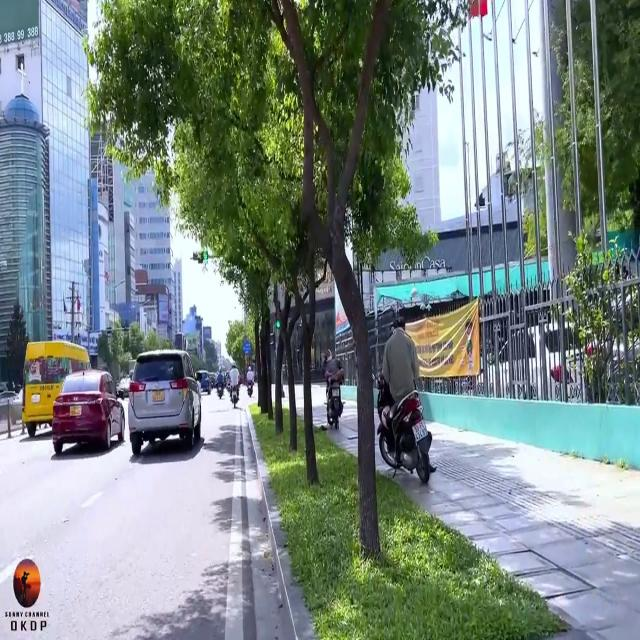bien_trang: (411, 416, 430, 444)
